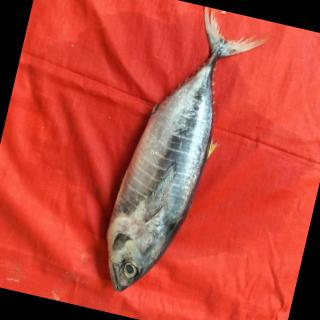Ikan: (79, 1, 275, 320)
